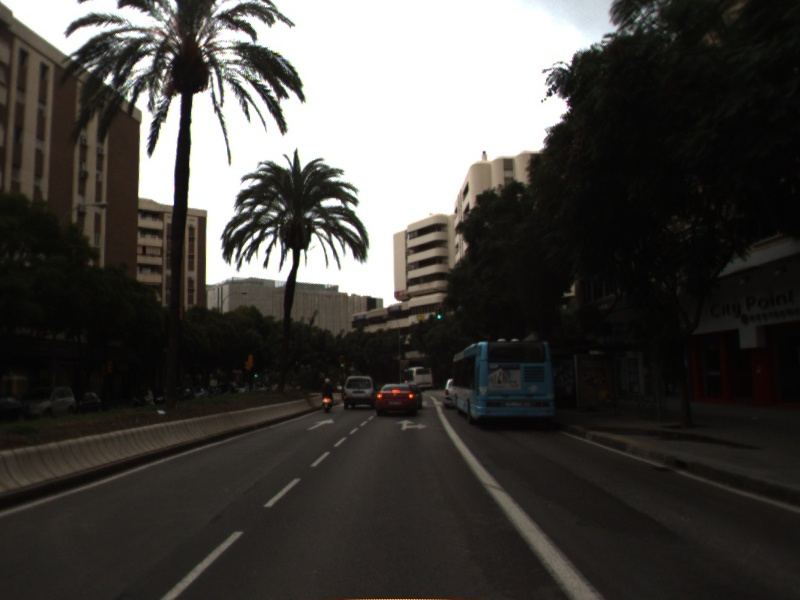STRAIGHT: (305, 417, 337, 432)
STRAIGHT_RIGHT: (393, 417, 429, 432)
